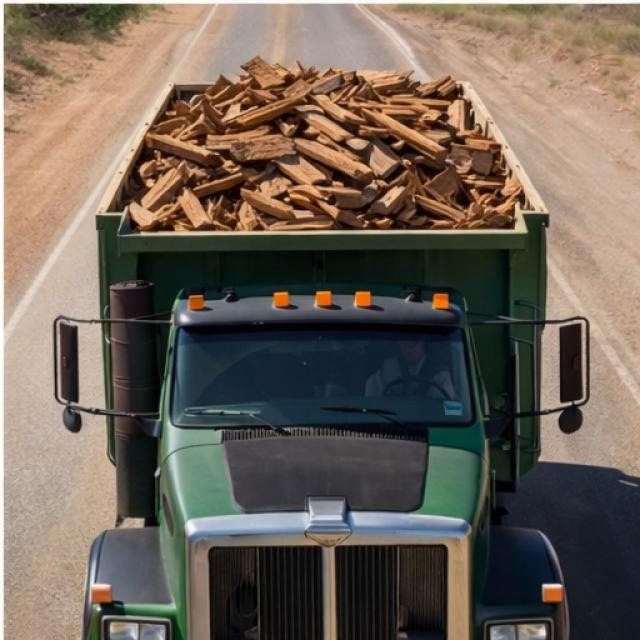trailer: (90, 66, 552, 247)
truck: (37, 55, 597, 635)
